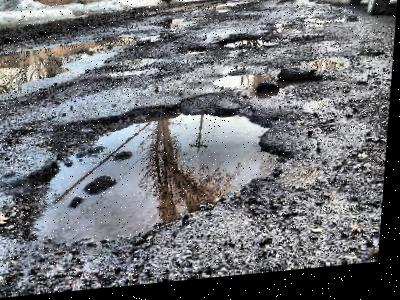pothole: (3, 93, 297, 252), (221, 37, 268, 56), (307, 61, 354, 78), (214, 75, 255, 93)
